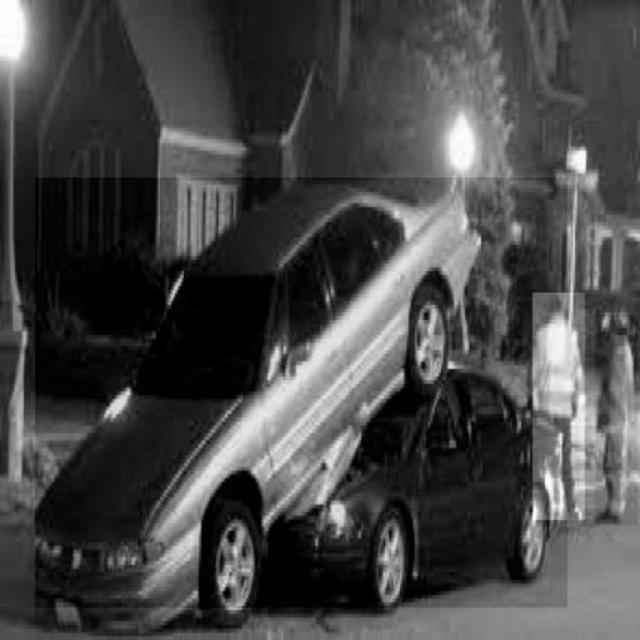accident: (36, 177, 568, 608)
person: (533, 292, 585, 520), (596, 315, 638, 526)
